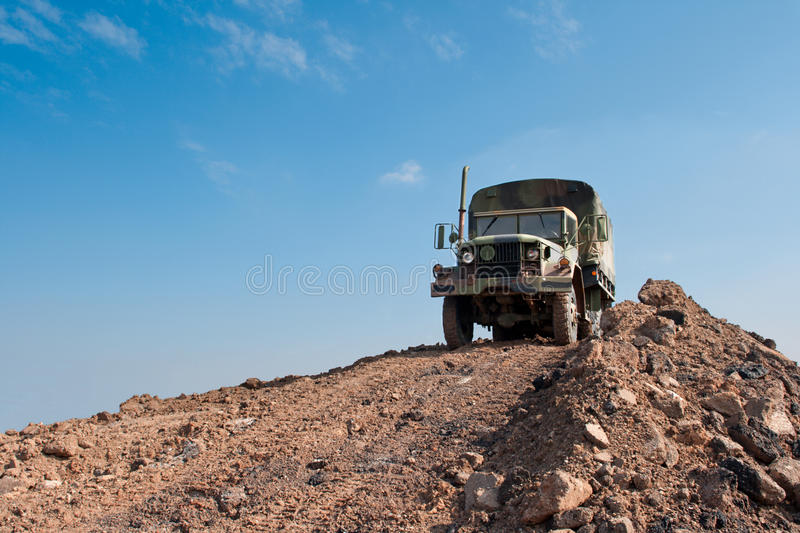camion: (436, 177, 614, 342)
